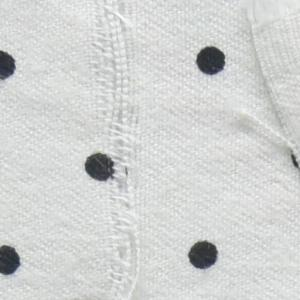Damage: (88, 1, 157, 300), (234, 1, 300, 174)
